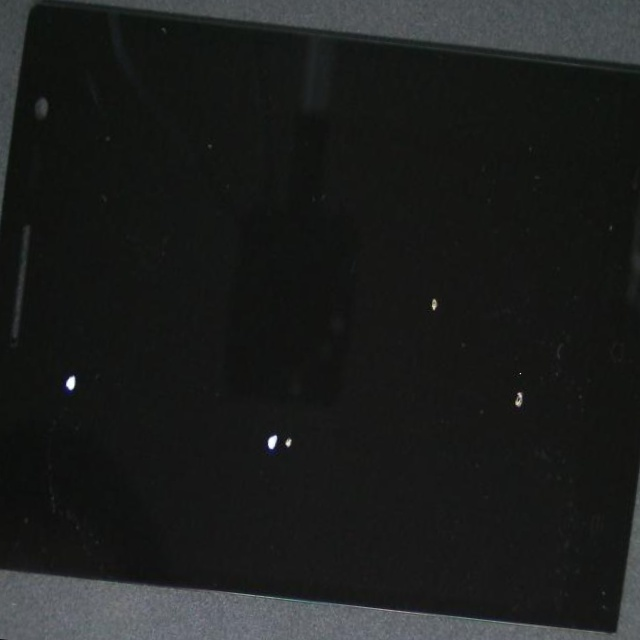stain: (195, 155, 640, 640), (163, 135, 640, 557), (82, 151, 460, 640), (0, 164, 158, 640)
